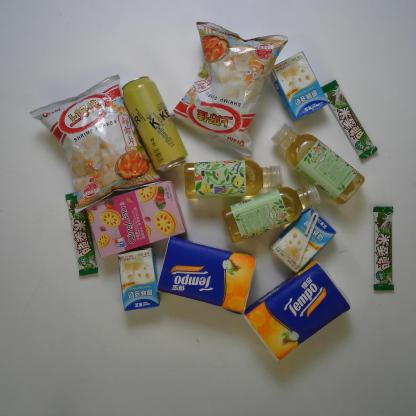Alcohol: (120, 74, 191, 174)
Chocolate: (318, 77, 380, 160), (63, 191, 100, 277), (369, 203, 396, 293)
Dessert: (84, 178, 190, 258)
Drink: (269, 122, 366, 206), (219, 181, 322, 246), (182, 159, 285, 199)
Milk: (267, 207, 338, 274), (268, 49, 330, 124), (115, 245, 162, 313)
Puffed Food: (27, 72, 166, 216), (167, 19, 290, 157)
Tissue: (241, 258, 354, 363), (155, 234, 258, 316)
